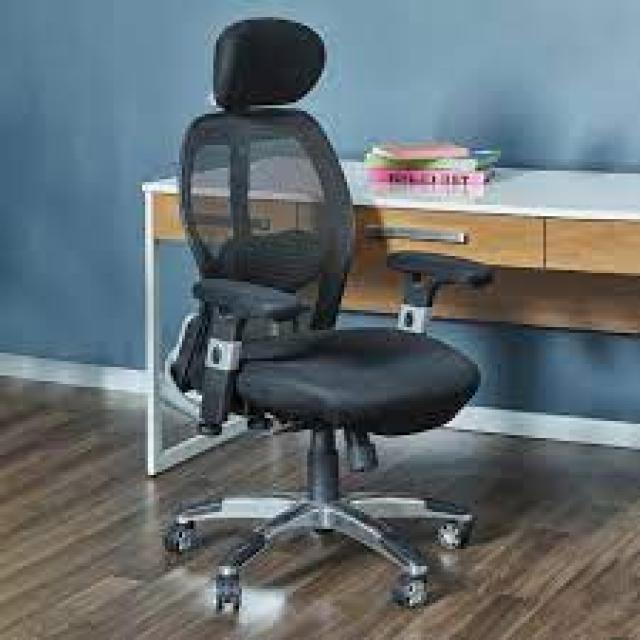chair: (90, 2, 521, 640)
